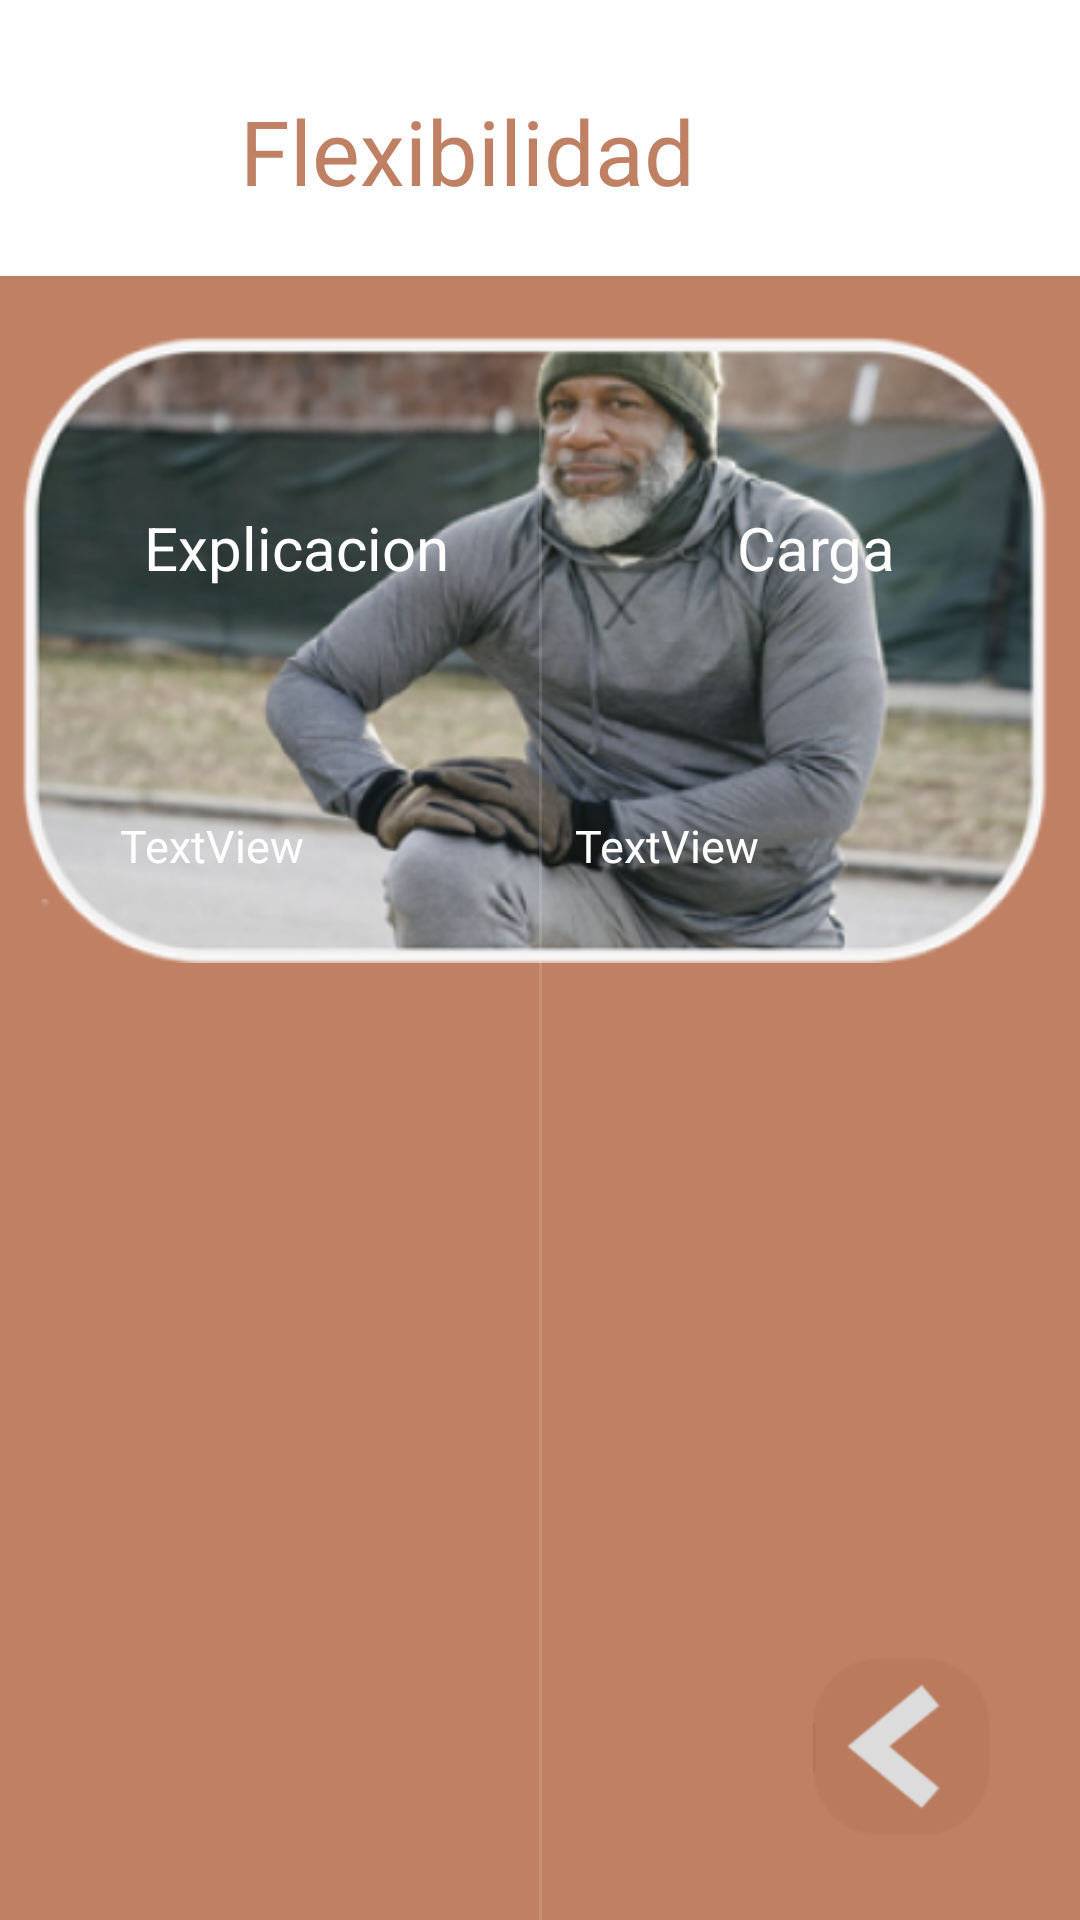

Screen size 1080px×1920px. Icon name, then its box in pixels as (x1, y1, x2, y2):
regresar: (848, 1685, 939, 1808)
